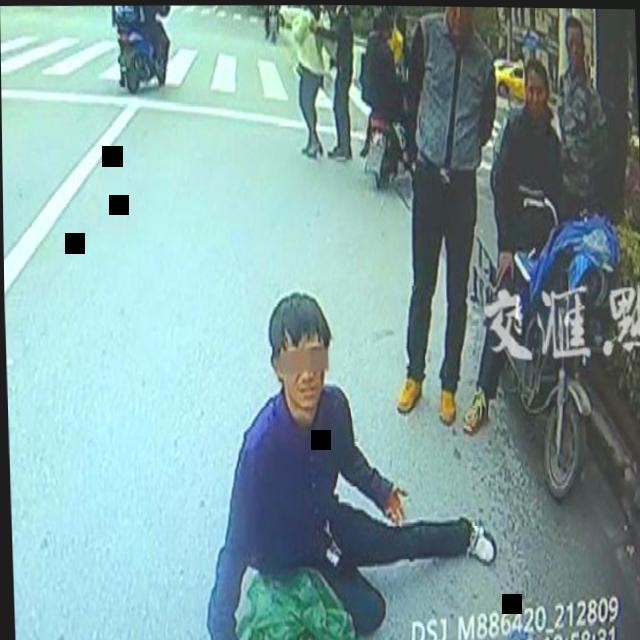Fall-Detected: (182, 280, 508, 640)
